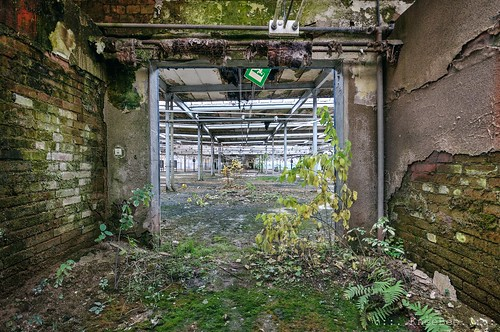building: (1, 1, 491, 326)
vegetation: (257, 127, 373, 300)
